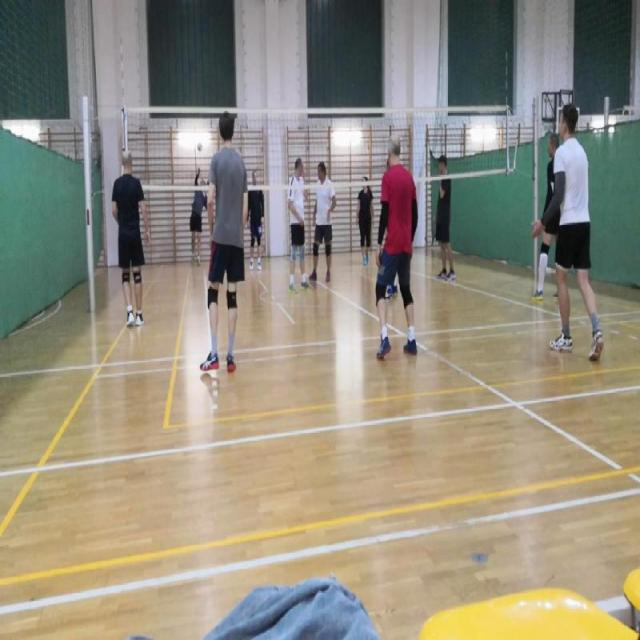volleyball: (198, 142, 202, 152)
